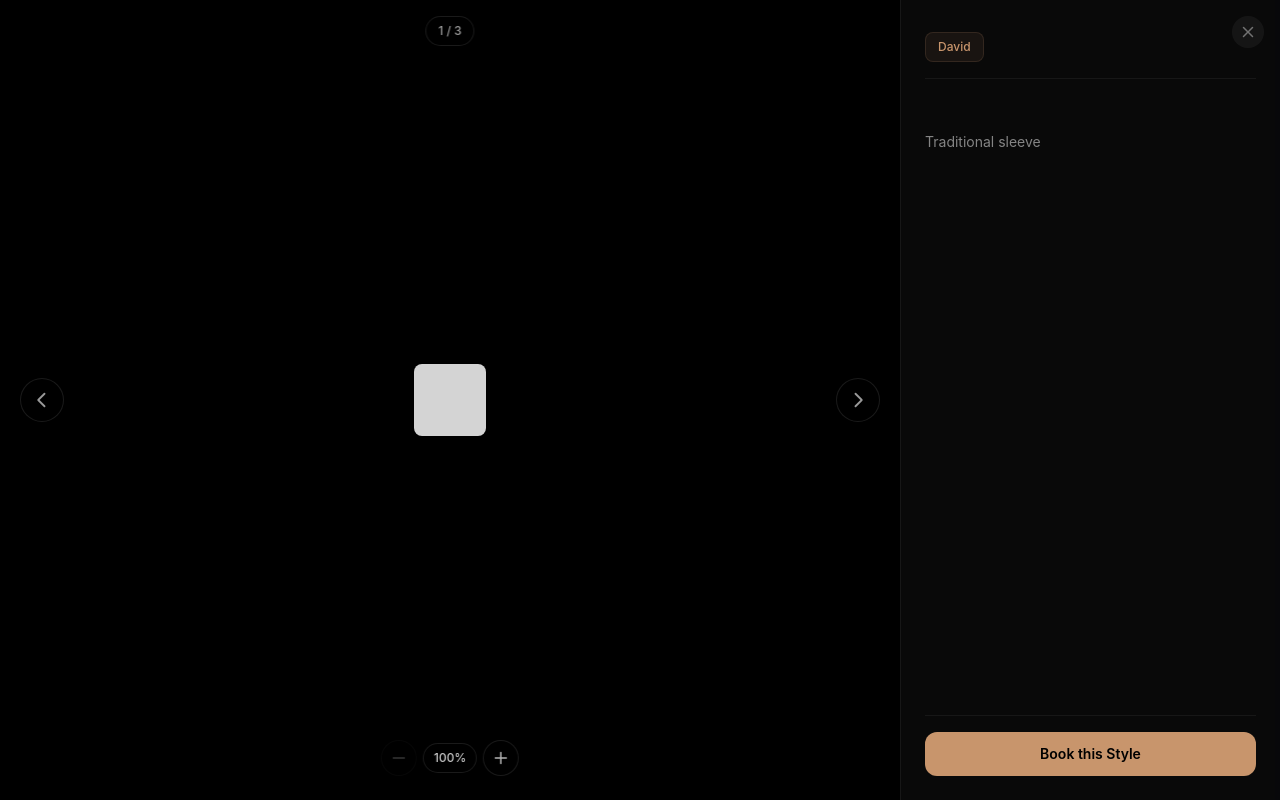
Test: PhotoLightbox Component › Zoom Controls › should zoom in when clicking zoom in
Step 1. Click the button named "Zoom in" → coordinates (501, 758), box [483,740,519,776]
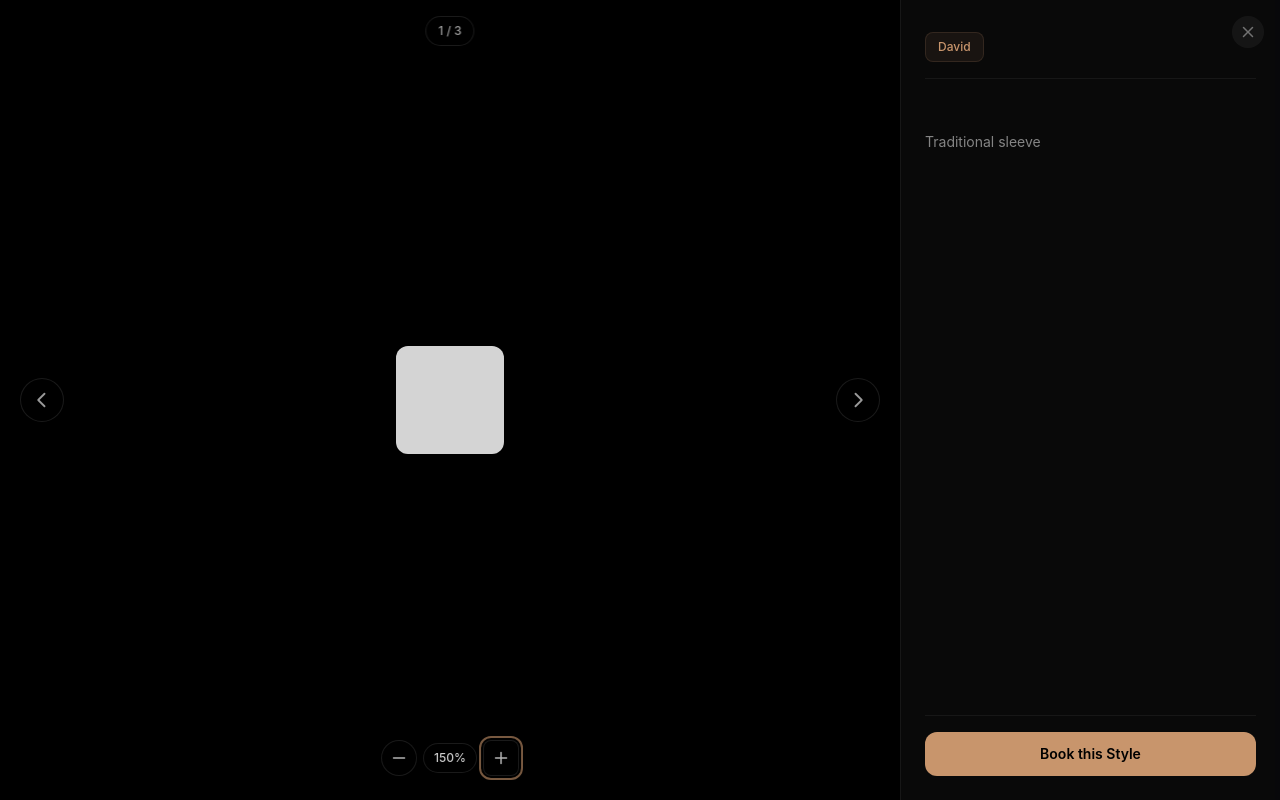
Now the text "150%" is shown, box [423,743,477,773]
